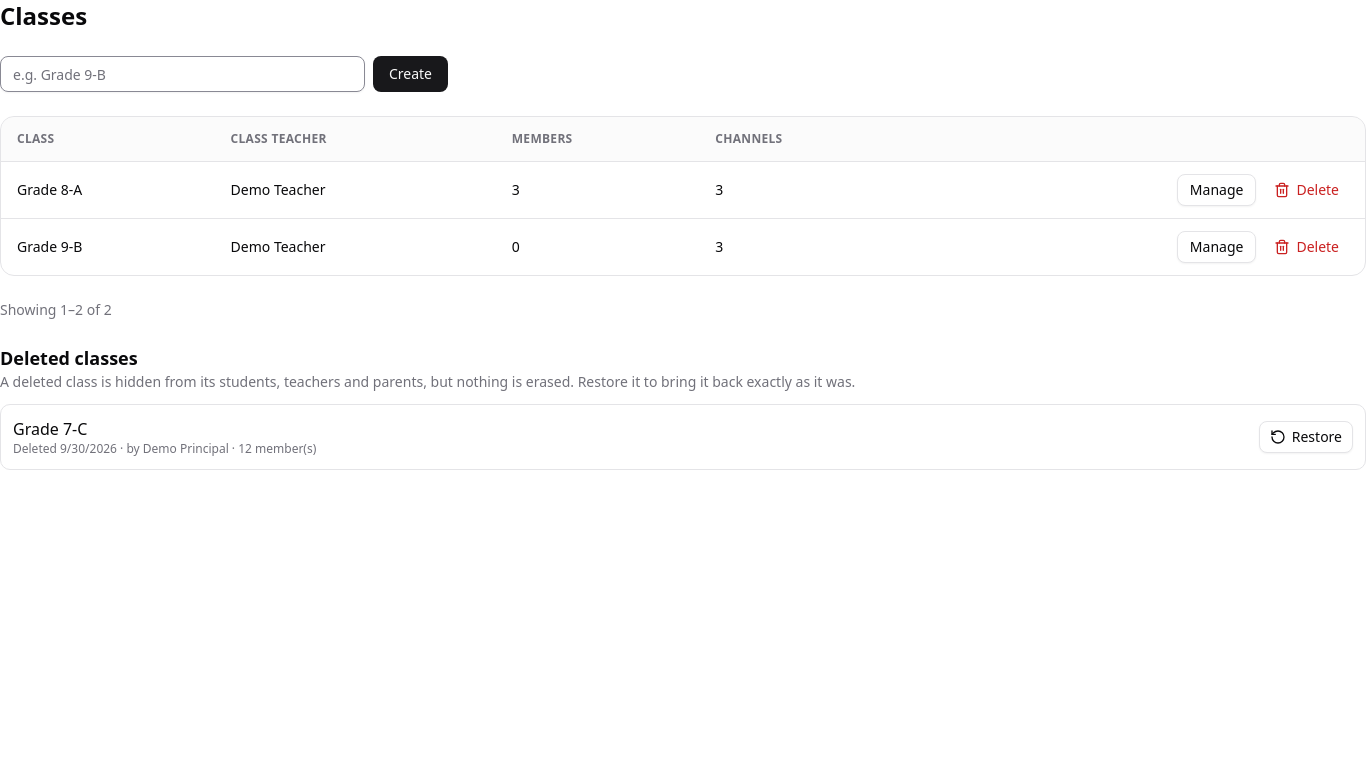
it: deleting a class › deletes after confirming, refreshes the lists and tells the side menu
This screenshot has width=1366, height=768.
Click the button with aria-label "Delete Grade 8-A" at x=1307, y=190, box [1264,174,1349,206]
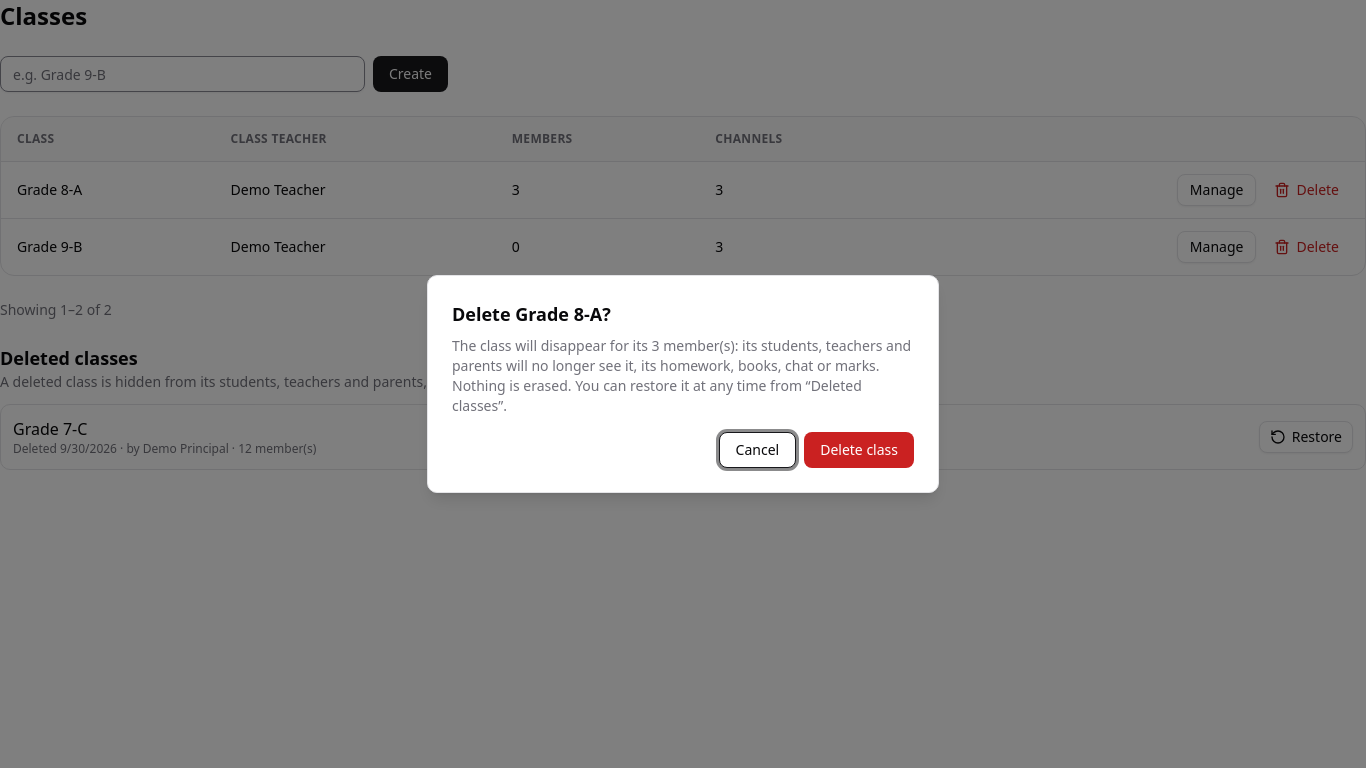
Click the button "Delete class" at x=859, y=450, box [804,432,914,468]
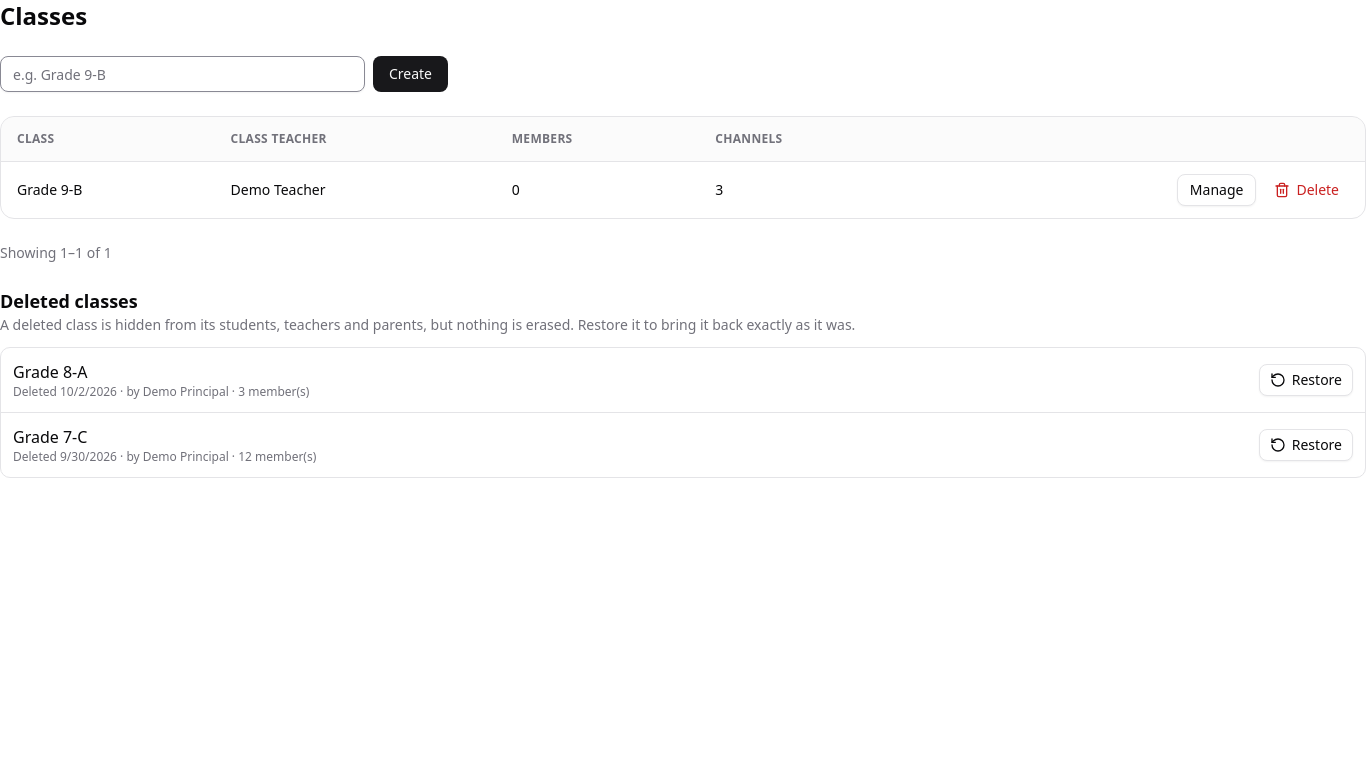
Expected: the text "Grade 8-A" is shown, [13,360,88,382]
Expected: the dialog is gone
Expected: the heading "Delete Grade 8-A" is gone
